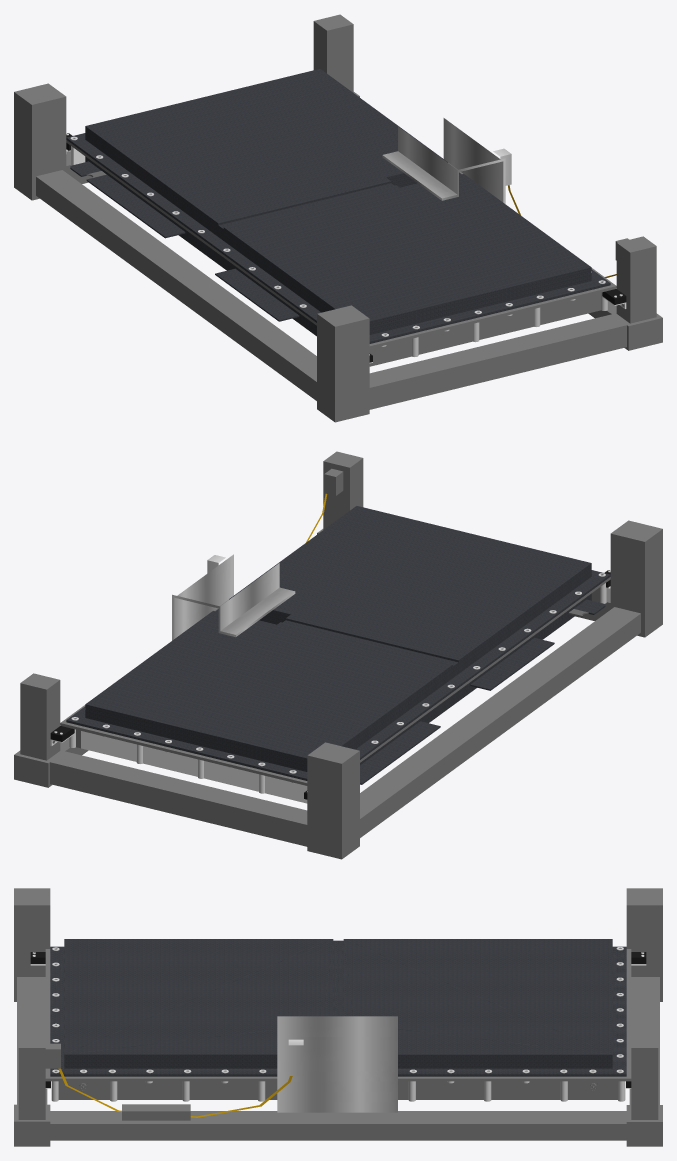
Rendered from one-bat-shelf2.gltf.
3 renders of one model, top to bottom at view 1: azimuth 30°, elevation 25°; view 2: azimuth 150°, elevation 25°; view 3: azimuth 270°, elevation 25°, orthographic.
Visible parts, largest first — view 1: 组件#11, 组件#19, 组件#22, 组件#20; view 2: 组件#11, 组件#19, 组件#22, 组件#20; view 3: 组件#11, 组件#19, 组件#22, 组件#20, 组件#23.
Part boxes in pixels (x1,y1,x2,y2): 组件#11: (66, 69, 610, 343); 组件#19: (14, 14, 662, 422); 组件#22: (382, 118, 511, 203); 组件#20: (66, 140, 601, 366); 组件#11: (66, 506, 610, 784); 组件#19: (14, 451, 662, 859); 组件#22: (172, 554, 295, 640); 组件#20: (76, 577, 610, 803); 组件#11: (50, 939, 626, 1076); 组件#19: (14, 888, 662, 1146); 组件#22: (277, 1016, 397, 1112); 组件#20: (58, 1081, 617, 1099); 组件#23: (58, 1068, 292, 1117).
Bounding box in the file's own units: 1.26 × 0.35 × 2.13.
8 materials, 2 textured.
